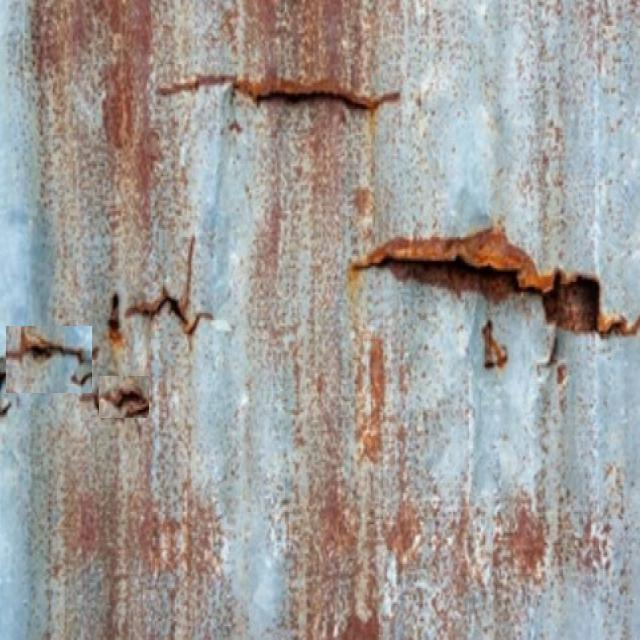Corrosion: (352, 228, 640, 336), (32, 0, 155, 192), (238, 0, 377, 92), (125, 238, 212, 340), (159, 75, 401, 110), (0, 326, 94, 394), (100, 377, 148, 418), (107, 293, 126, 354)
